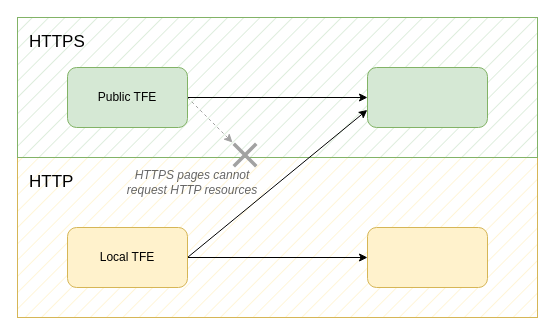
Some shapes in this 555 by 335 pixel diagram are drawn without their labels. Each missing label, with the centre of its shape:
"Local File Server" goes at point 427,257.
"Remote File Server S3, Google Cloud Storage, etc." goes at point 427,97.
